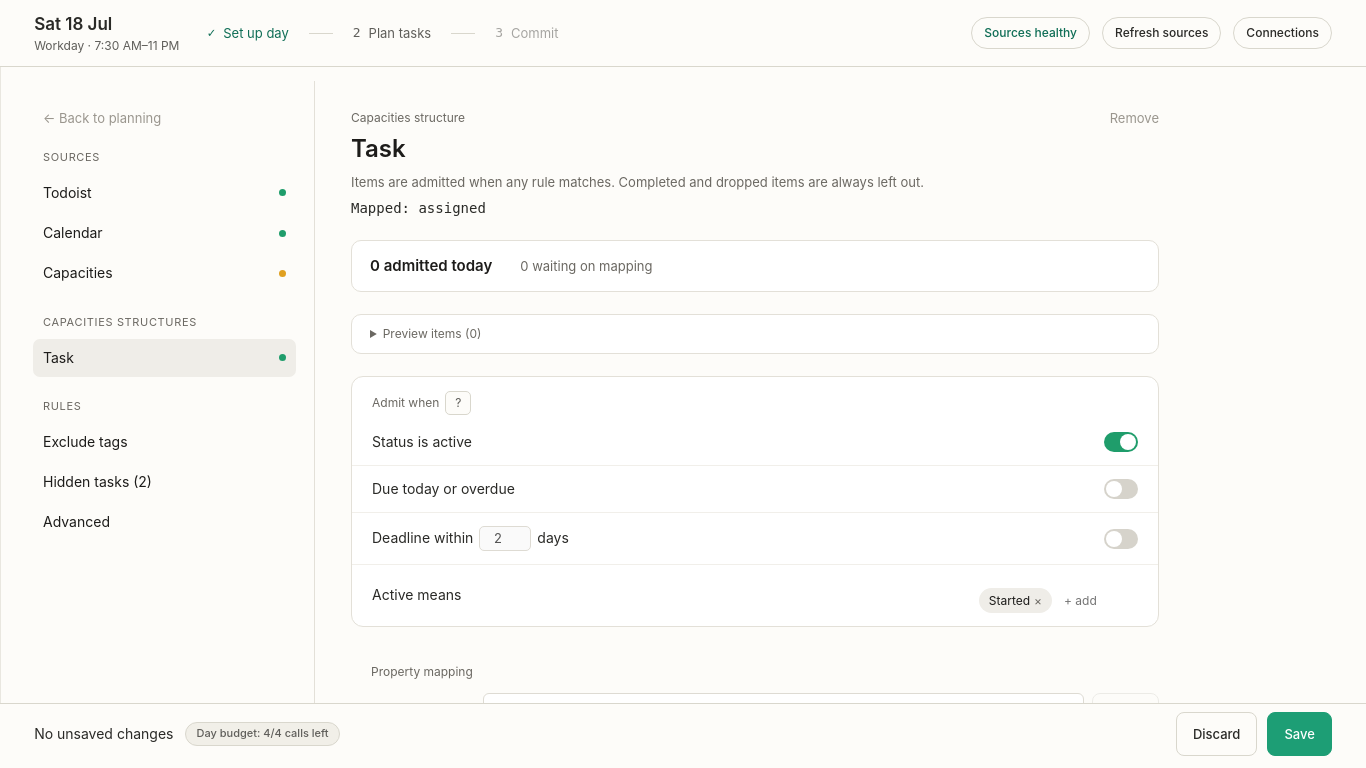
Test: Connections · Hidden tasks › lists hidden tasks with short added dates and a Show again control
Click the button "Hidden tasks (2)": (97, 482) left=33, top=463, right=296, bottom=502
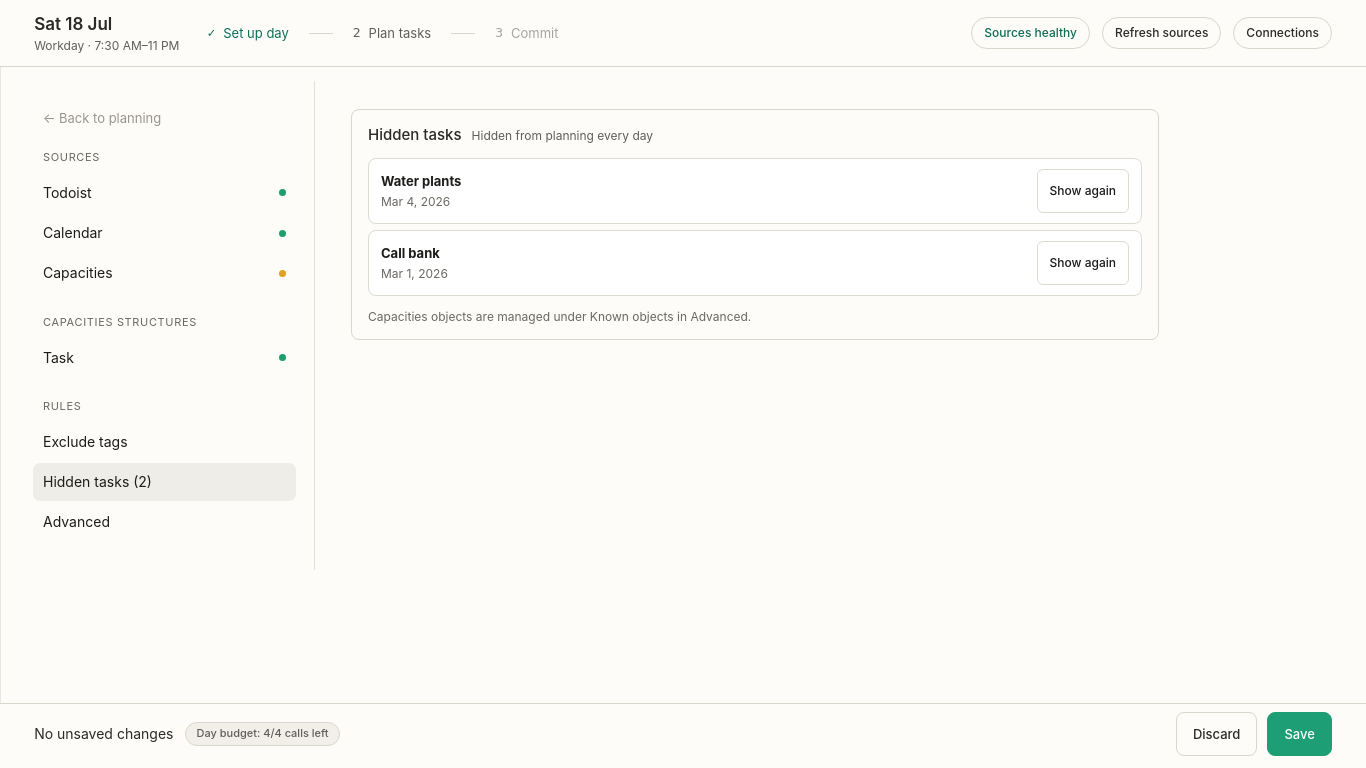
Expected: the text "Water plants" is shown, left=381, top=172, right=461, bottom=190
Expected: the text "Call bank" is shown, left=381, top=244, right=448, bottom=262
Expected: the button with aria-label "Show again Water plants" is shown, left=1036, top=169, right=1129, bottom=213
